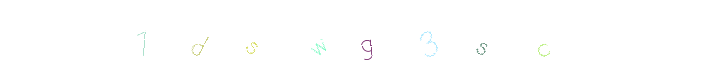1: (216, 0, 296, 80)
3: (350, 0, 430, 80)
C: (442, 0, 522, 80)
D: (271, 0, 351, 80)
G: (328, 0, 408, 80)
S: (275, 0, 355, 80), (378, 0, 458, 80)
W: (320, 0, 400, 80)
